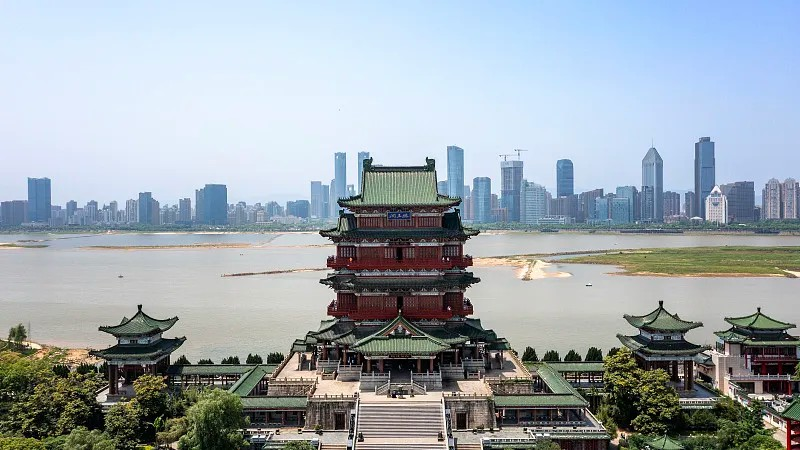Teng: (292, 158, 510, 371)
